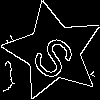S: (28, 26, 85, 83)
